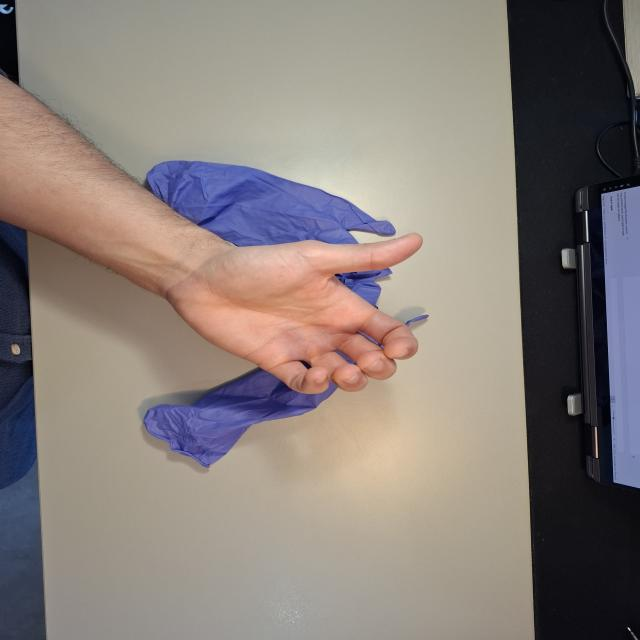glove_off: (159, 229, 425, 395)
